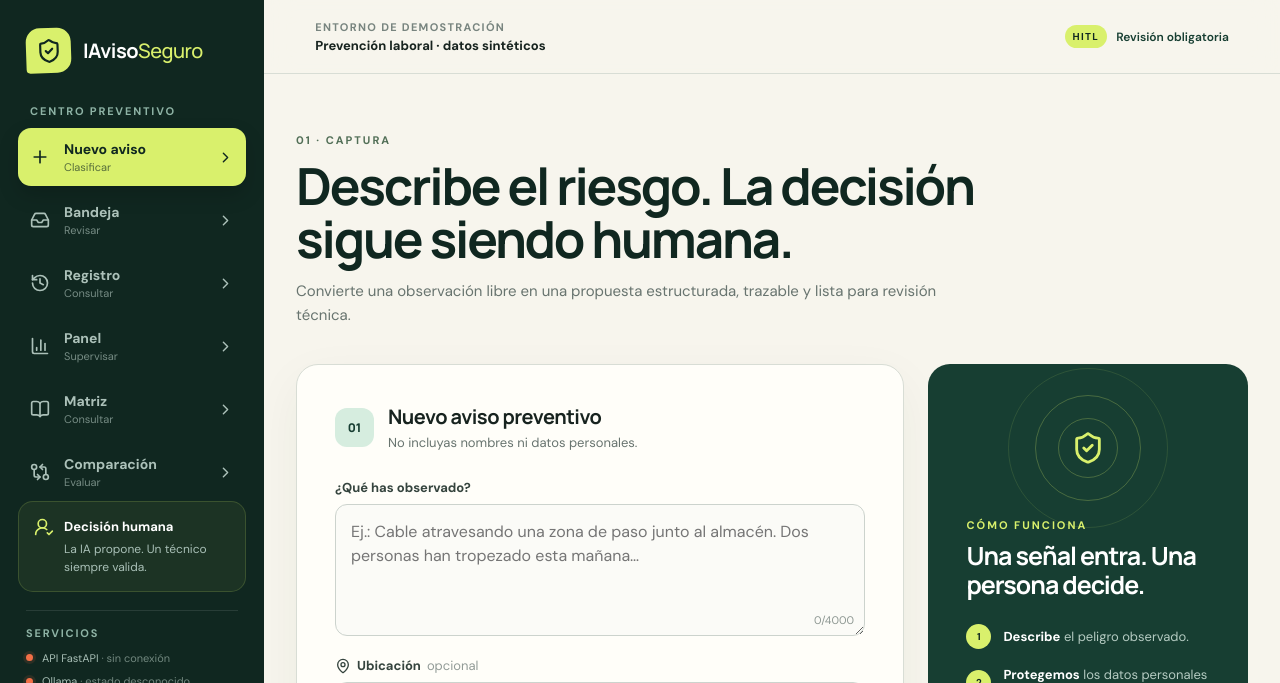
it: IAviso Seguro › muestra propuestas, costes y fallos de una comparación
Step 1. Click the button "Comparación Evaluar" → (132, 472), box [18,443,246,501]
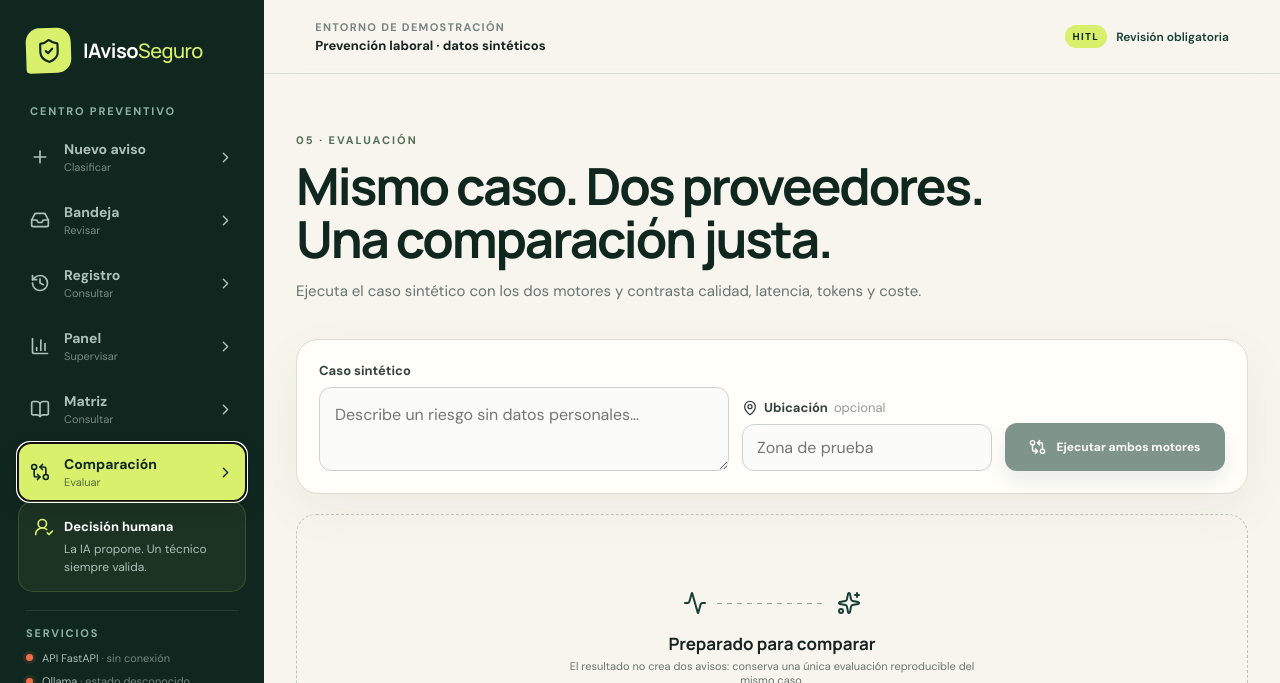
Step 2. Type "Cable expuesto" into the text box labelled "Caso sintético" → (524, 429), box [319,387,729,471]
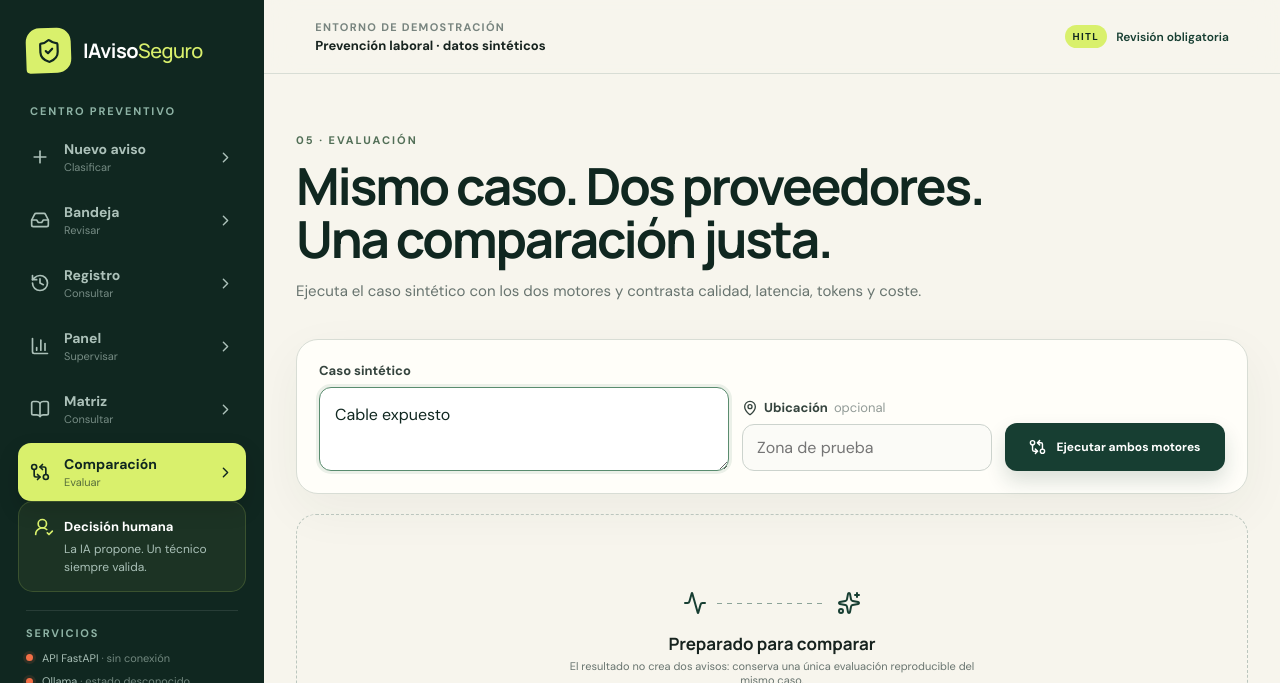
Step 3. Click the button "Ejecutar ambos motores" → (1115, 447), box [1005,423,1225,471]
(page scrolled)
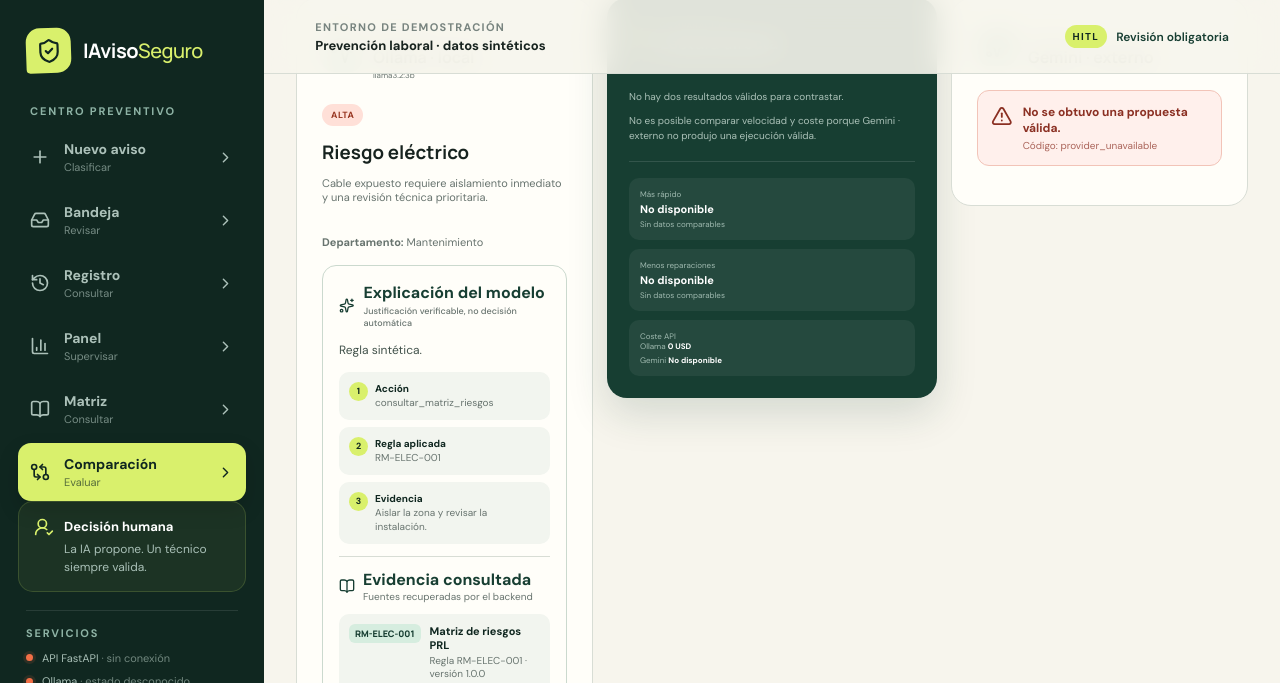
Check: the heading "Riesgo eléctrico" is shown, box [322,139,469,165]
Check: the text "Código: provider_unavailable" is shown, box [1023,139,1157,152]
Check: the text "Explicación del modelo" is shown, box [364,282,550,303]
